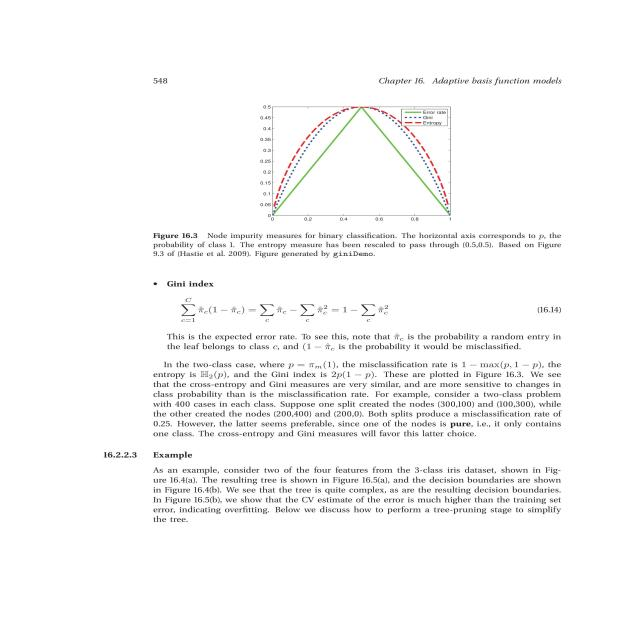diagram: (99, 102, 606, 262)
